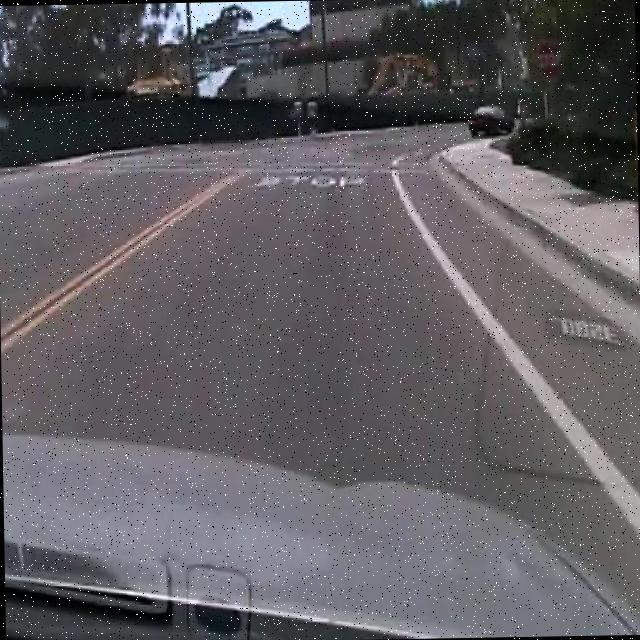Stop: (536, 40, 564, 82)
